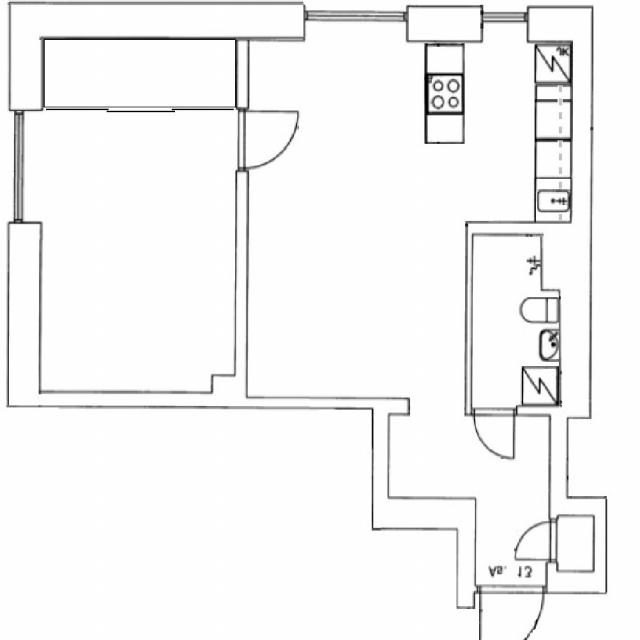door: (238, 112, 298, 168), (480, 587, 542, 640), (475, 408, 514, 458), (517, 524, 556, 560)
